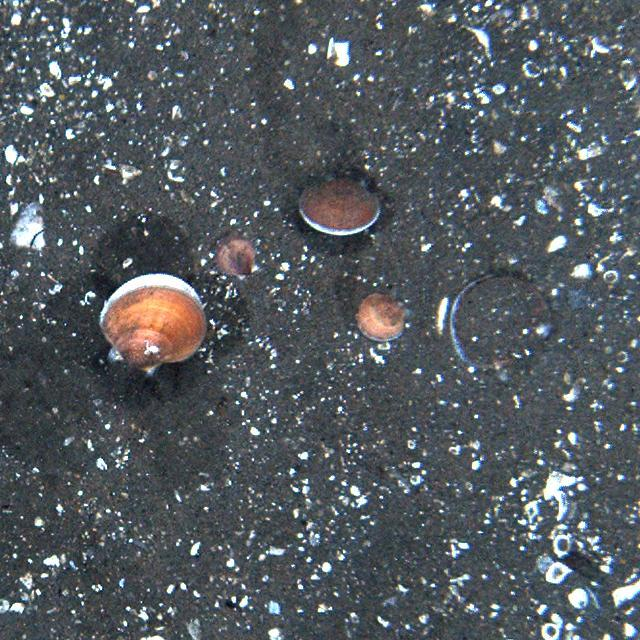scallop: (96, 271, 207, 380), (448, 269, 556, 374), (292, 171, 382, 240), (356, 288, 408, 346)
